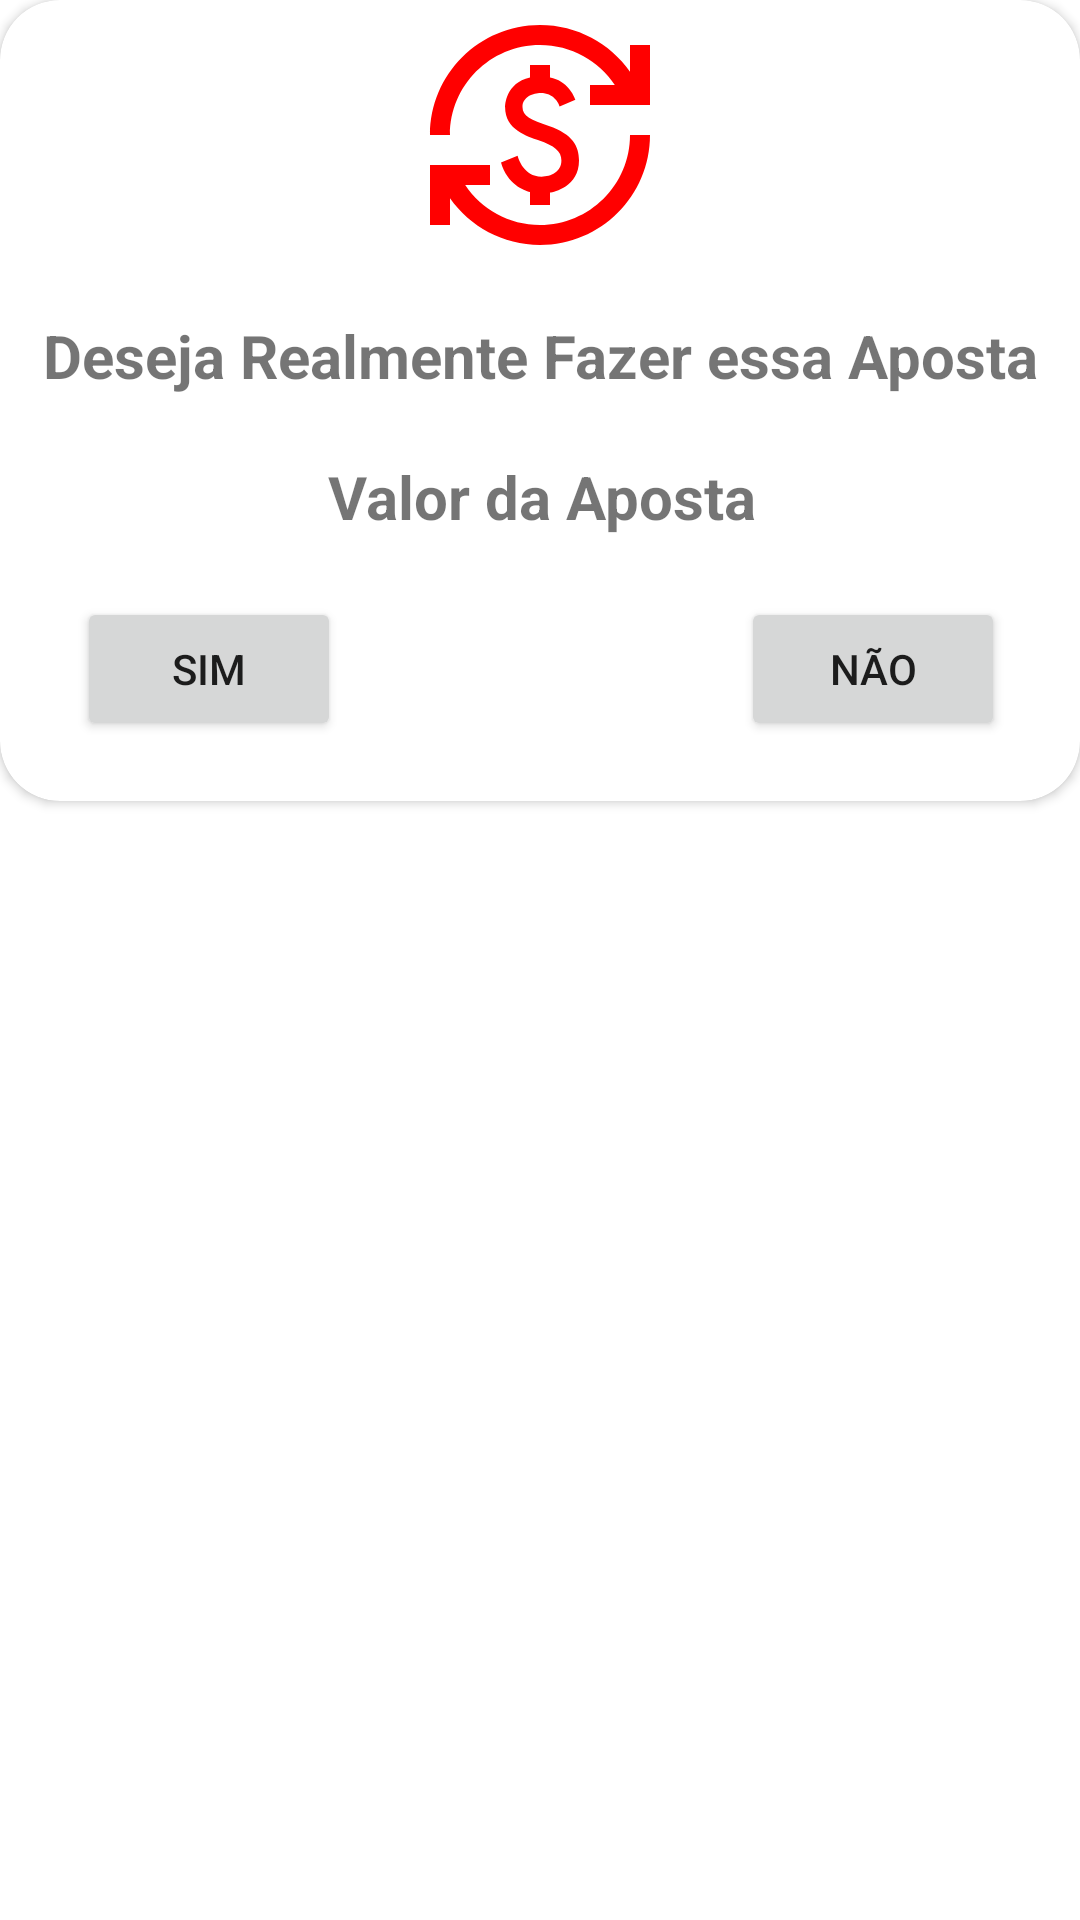

Screen size 1080×1920. Icon name, then its center in pixels as (x,y):
dollar exchange: (540,135)
